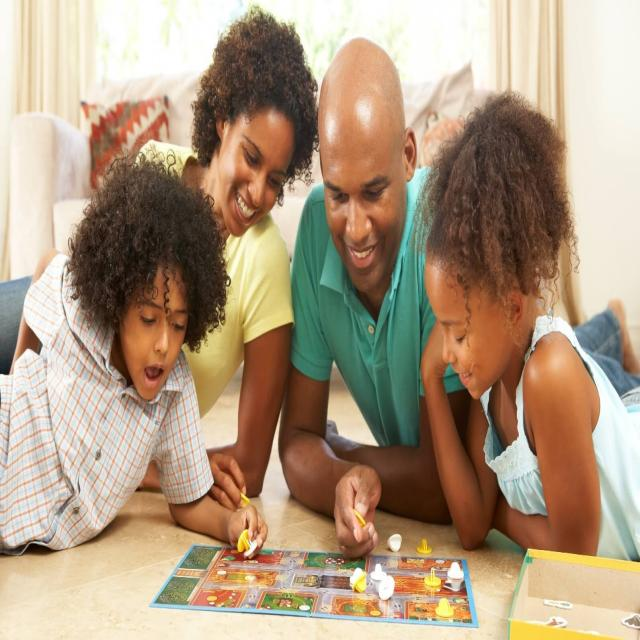adult: (0, 7, 318, 515), (280, 32, 471, 556)
child: (1, 147, 268, 556), (421, 100, 640, 558)
